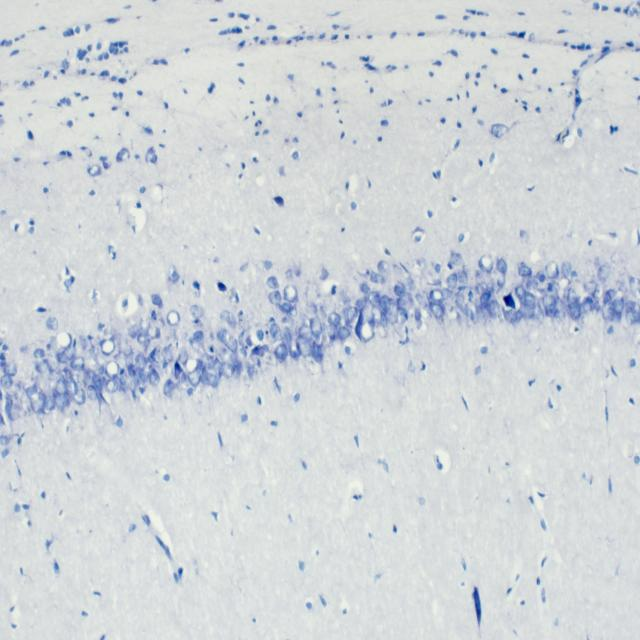neuron: (356, 312, 375, 342), (200, 368, 219, 389), (30, 390, 45, 414), (296, 335, 312, 357), (386, 299, 399, 326), (486, 300, 502, 321), (542, 294, 556, 317), (104, 360, 120, 380), (478, 254, 494, 274), (544, 260, 560, 280), (322, 324, 335, 348), (613, 296, 625, 322), (146, 364, 160, 386), (360, 301, 374, 323), (56, 331, 72, 350), (288, 340, 303, 360), (310, 314, 322, 338), (519, 302, 535, 320), (284, 284, 298, 304), (344, 306, 358, 326), (597, 262, 611, 282), (312, 339, 324, 362), (428, 302, 444, 319), (263, 349, 278, 367), (274, 343, 288, 362), (394, 306, 408, 325), (52, 392, 65, 412), (65, 376, 78, 396), (602, 300, 615, 320), (450, 252, 466, 268), (100, 339, 115, 356), (187, 370, 202, 387), (477, 304, 488, 327), (46, 354, 60, 372), (337, 326, 351, 344), (568, 302, 582, 320), (629, 277, 640, 299), (70, 356, 85, 372), (163, 378, 175, 398), (429, 288, 444, 304), (35, 358, 49, 375), (73, 388, 86, 406), (56, 346, 69, 364), (138, 318, 151, 336), (251, 344, 269, 357), (221, 362, 235, 378), (370, 270, 386, 284), (584, 280, 598, 296), (148, 351, 161, 368), (167, 309, 180, 326), (213, 357, 224, 377), (135, 352, 147, 370), (560, 260, 572, 278), (3, 362, 17, 377), (62, 345, 76, 360), (368, 291, 382, 306), (379, 294, 390, 313), (25, 382, 38, 398), (217, 328, 230, 344), (269, 290, 282, 306), (446, 273, 458, 290), (566, 287, 578, 304), (371, 304, 382, 322), (43, 396, 55, 412), (526, 276, 538, 292), (496, 257, 507, 274), (530, 288, 547, 299), (105, 379, 118, 393), (299, 325, 312, 339), (328, 312, 341, 326), (518, 264, 532, 277), (46, 316, 58, 331), (162, 347, 174, 362), (227, 336, 237, 354), (298, 312, 310, 327), (306, 301, 318, 316), (56, 379, 67, 395), (87, 385, 98, 401), (92, 374, 103, 390), (287, 304, 298, 320), (524, 292, 535, 308), (603, 288, 614, 304), (625, 309, 635, 326), (190, 305, 203, 318), (267, 276, 280, 289), (1, 374, 13, 388), (128, 324, 139, 339), (152, 293, 163, 308), (50, 336, 59, 354), (532, 302, 541, 320), (178, 350, 188, 366), (190, 337, 200, 353), (594, 282, 604, 298), (440, 288, 453, 300), (419, 308, 433, 319), (515, 285, 526, 299), (174, 362, 183, 379), (55, 368, 65, 383), (458, 270, 468, 285), (79, 334, 88, 350), (270, 322, 279, 338), (283, 326, 292, 342), (379, 311, 388, 327), (456, 291, 464, 309), (475, 270, 484, 286), (394, 285, 405, 298), (122, 342, 132, 356), (279, 302, 293, 312), (378, 324, 388, 338), (246, 362, 254, 379), (193, 330, 204, 342), (216, 345, 227, 357), (377, 260, 388, 272), (480, 292, 491, 304), (402, 277, 413, 288), (614, 290, 625, 301), (34, 348, 46, 358), (143, 338, 151, 352), (414, 308, 422, 322), (515, 310, 523, 324), (633, 302, 640, 318), (360, 283, 371, 293), (256, 329, 264, 342), (0, 436, 10, 446), (193, 318, 203, 328), (220, 310, 230, 320), (119, 374, 128, 385), (415, 293, 424, 304), (198, 345, 206, 357), (245, 335, 253, 347), (406, 298, 414, 309), (397, 297, 406, 306), (1, 448, 9, 458), (98, 365, 104, 377), (137, 334, 145, 343), (434, 263, 441, 273), (240, 347, 247, 356), (188, 336, 194, 346), (281, 317, 288, 324), (345, 347, 351, 355), (295, 325, 299, 335)
